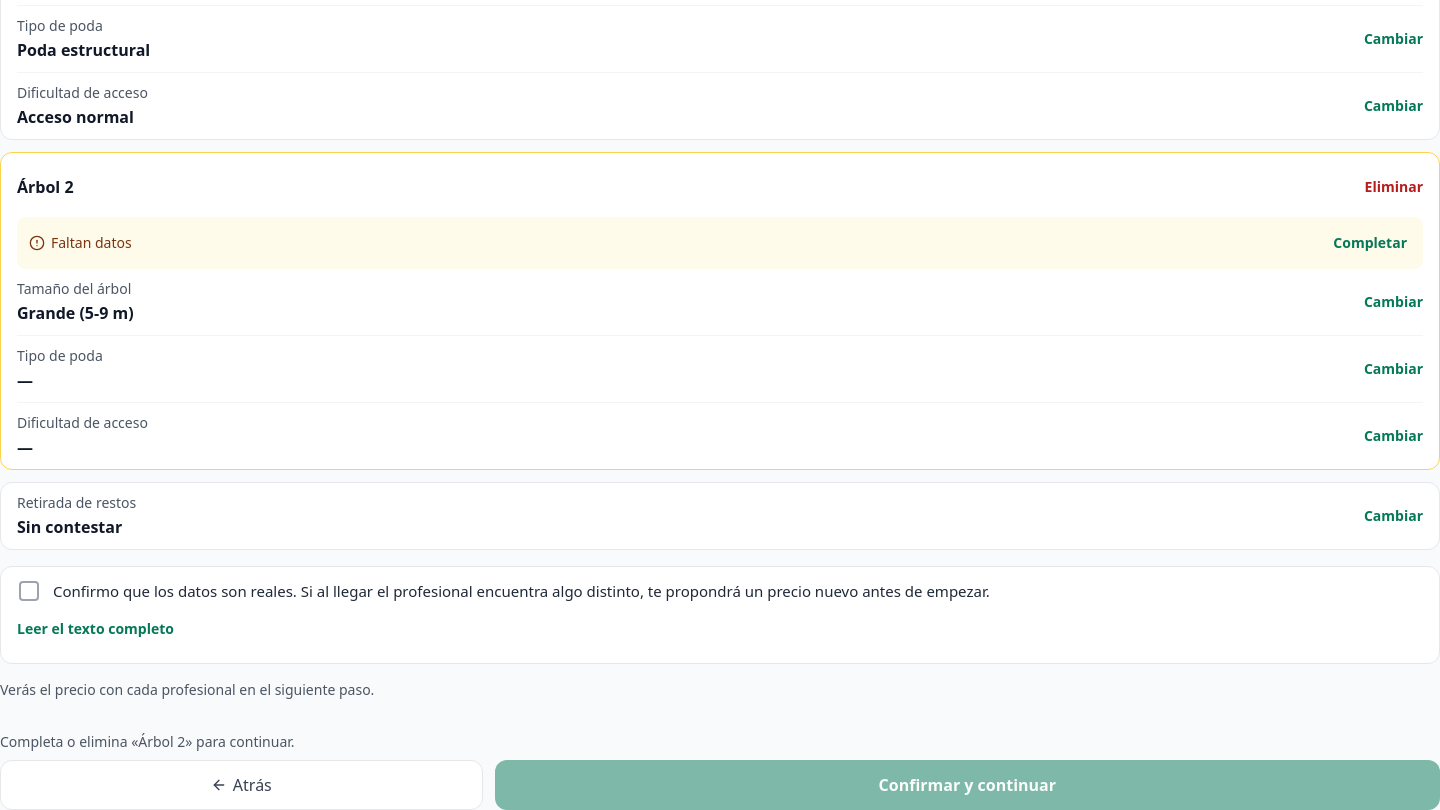
Scenario: elemento fantasma (P-01) › un elemento incompleto bloquea la confirmación y «Completar» lleva a lo que falta
The width and height of the screenshot is (1440, 810).
(page scrolled)
Click the checkbox at (504, 591), box 19,581 -> 990,601
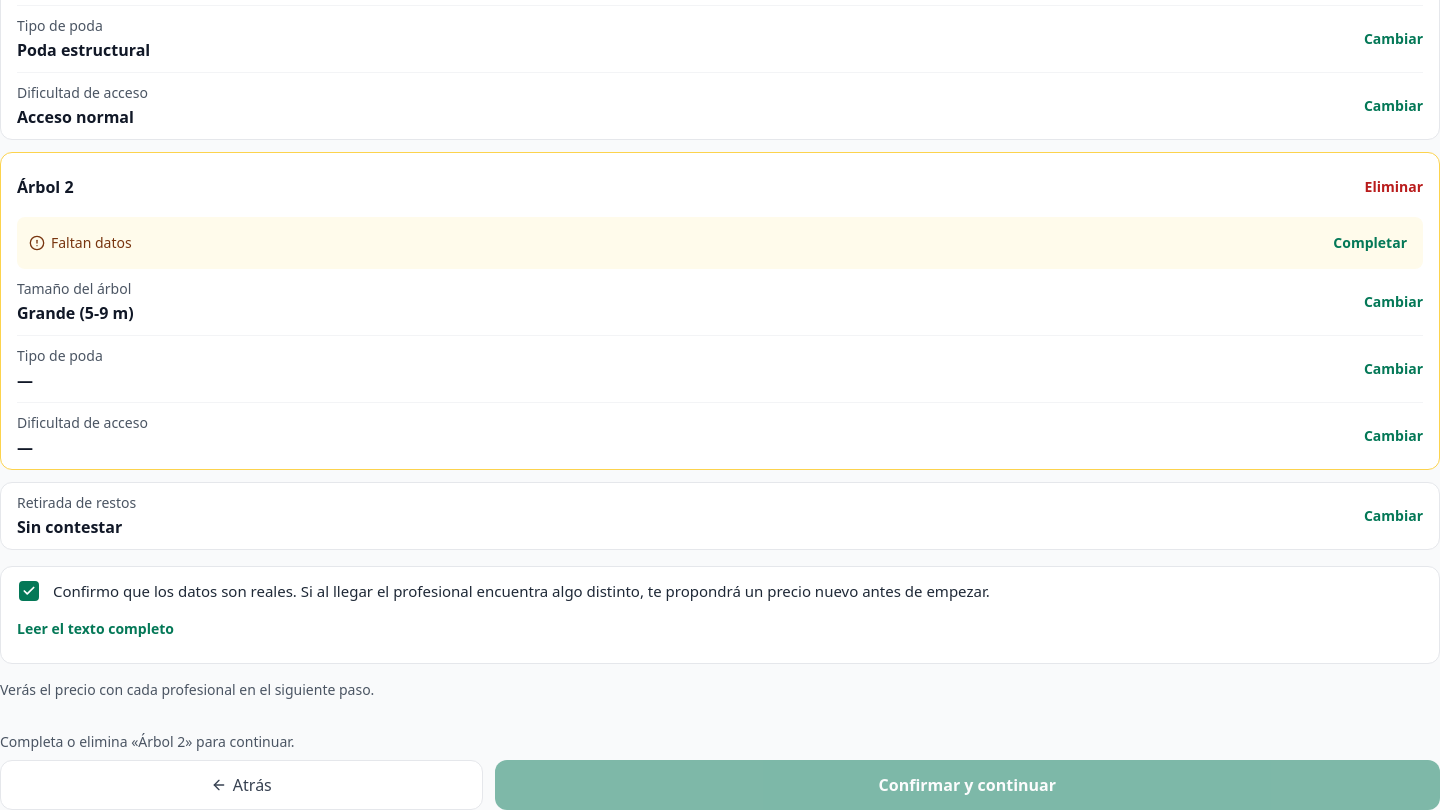
Check: the button "Confirmar y continuar" is disabled, box 495,760 -> 1439,809
Check: the text "Completa o elimina «Árbol 2» para continuar." is shown, box 0,732 -> 294,751
Click the button "Completar" at (1370, 243), box 1321,221 -> 1419,265
(page scrolled)
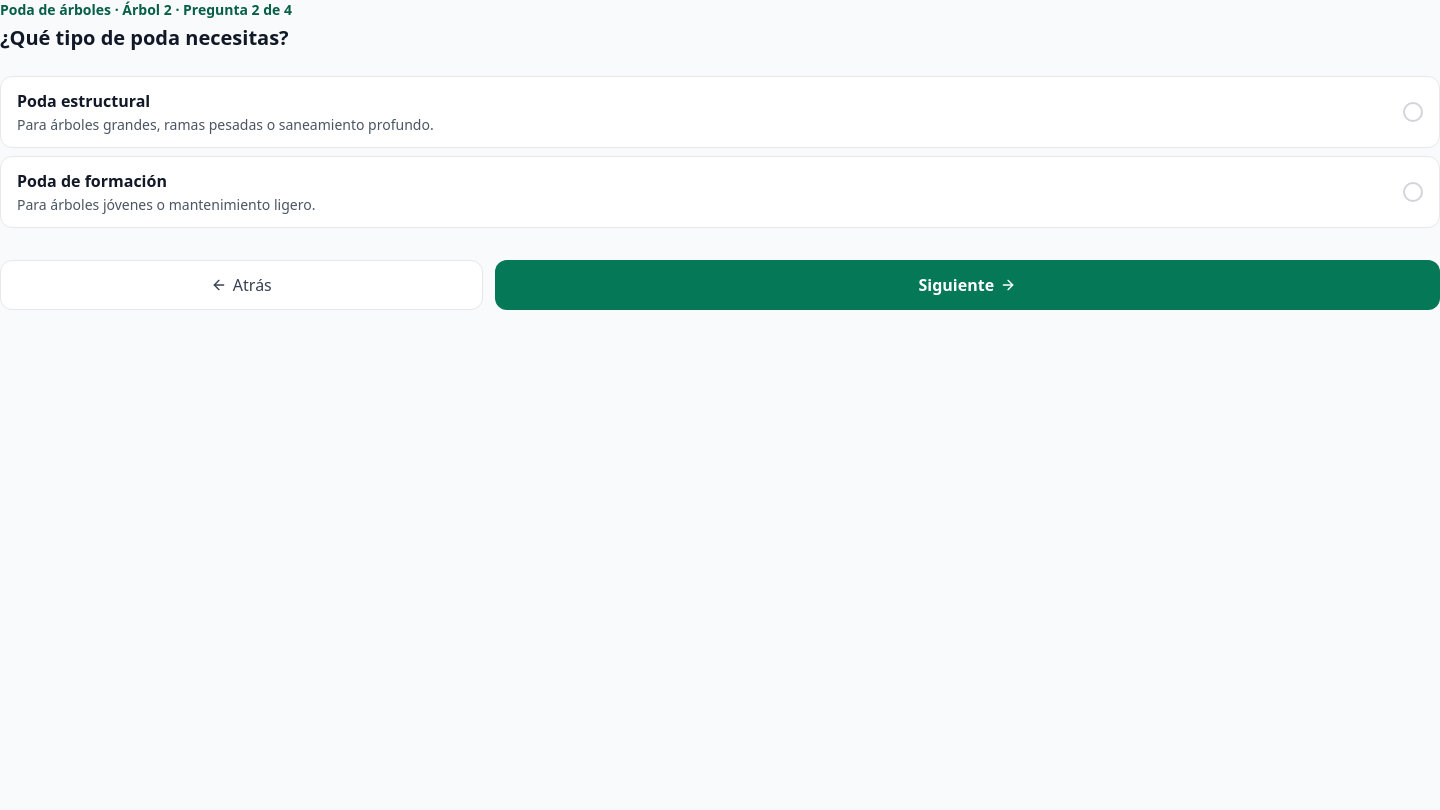
Check: the heading reads "¿Qué tipo de poda necesitas?", box 0,24 -> 289,51
